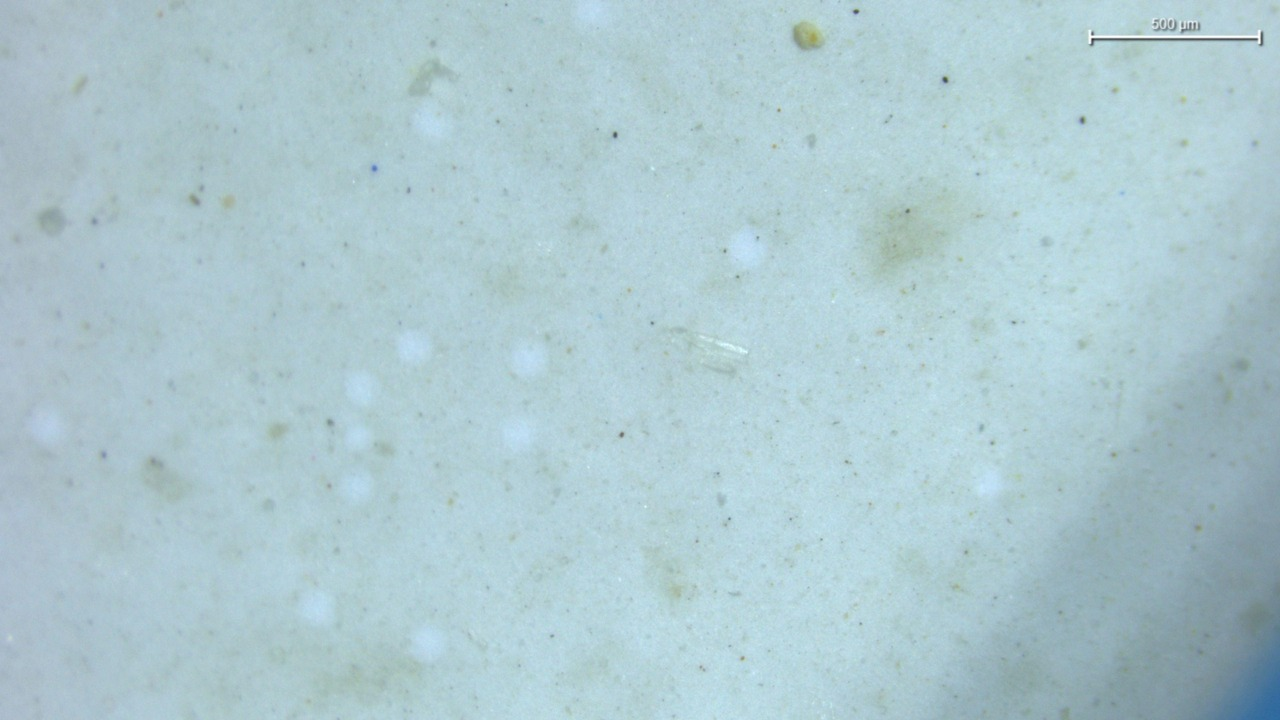microplastic_fragment: (664, 327, 749, 376)
